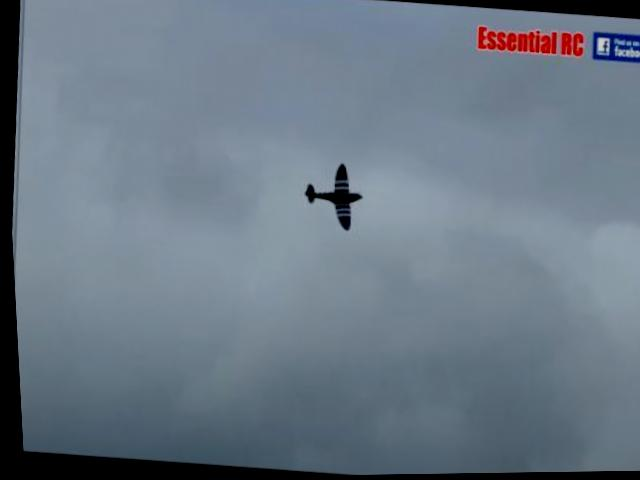uav: (299, 158, 365, 235)
